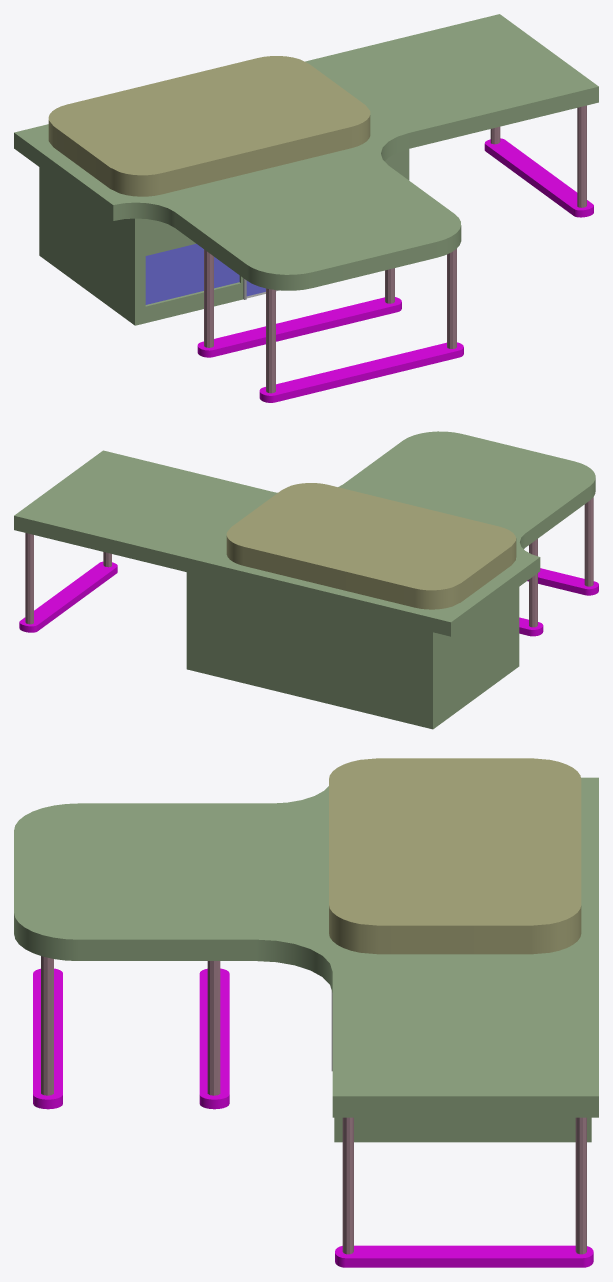
Rendered from MOD_GasStation.fbx.
3 renders of one model, top to bottom at view 1: azimuth 30°, elevation 25°; view 2: azimuth 150°, elevation 25°; view 3: azimuth 270°, elevation 25°, orthographic. The views are drawn at different scales.
Parts seen in each view (by area): view 1: pCube28; view 2: pCube28; view 3: pCube28.
Part boxes in pixels (<box>): pCube28: <box>14,14,598,402</box>; pCube28: <box>14,431,598,729</box>; pCube28: <box>14,758,598,1267</box>.
Bounding box in the file's own units: 2929 × 862 × 2274.
